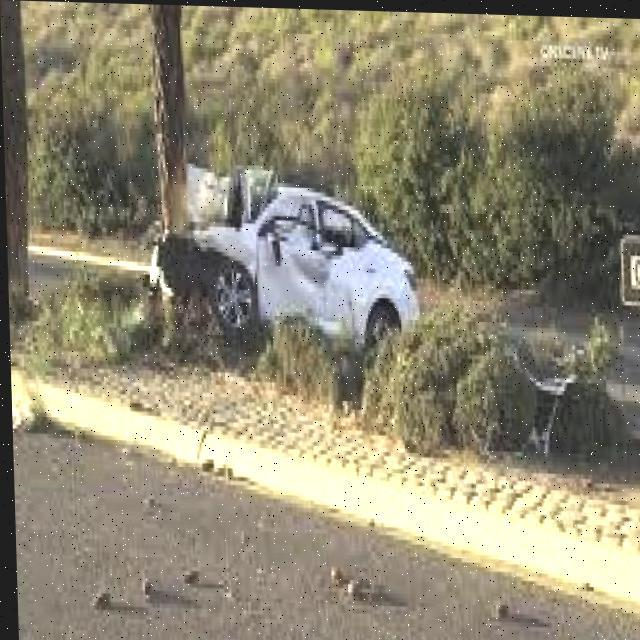single accident: (200, 161, 410, 384)
